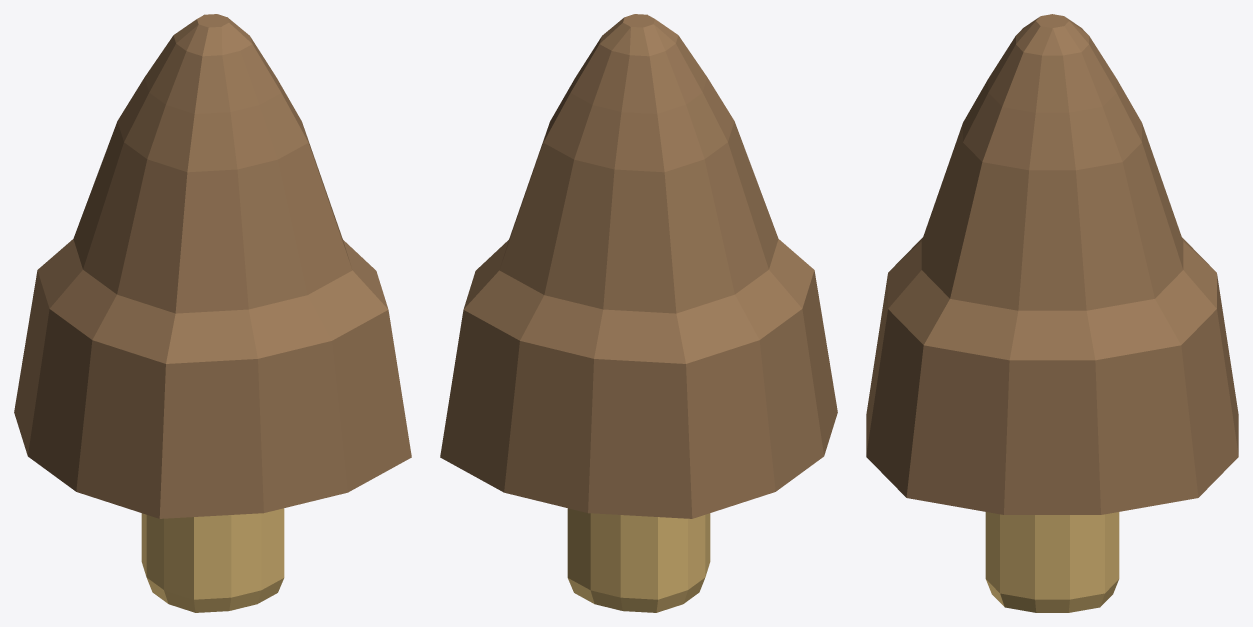
File: Mushroom3.6.fbx
The picture shows the model from 3 angles, left to right: view 1: azimuth 30°, elevation 25°; view 2: azimuth 150°, elevation 25°; view 3: azimuth 270°, elevation 25°; orthographic projection.
Parts seen in each view (by area): view 1: Mushroom3; view 2: Mushroom3; view 3: Mushroom3.
Part boxes in pixels (bbox=[...]): Mushroom3: bbox=[14, 14, 411, 612]; Mushroom3: bbox=[440, 14, 837, 612]; Mushroom3: bbox=[866, 14, 1238, 612].
Size of the model in its own units: 110 by 185 by 110.
